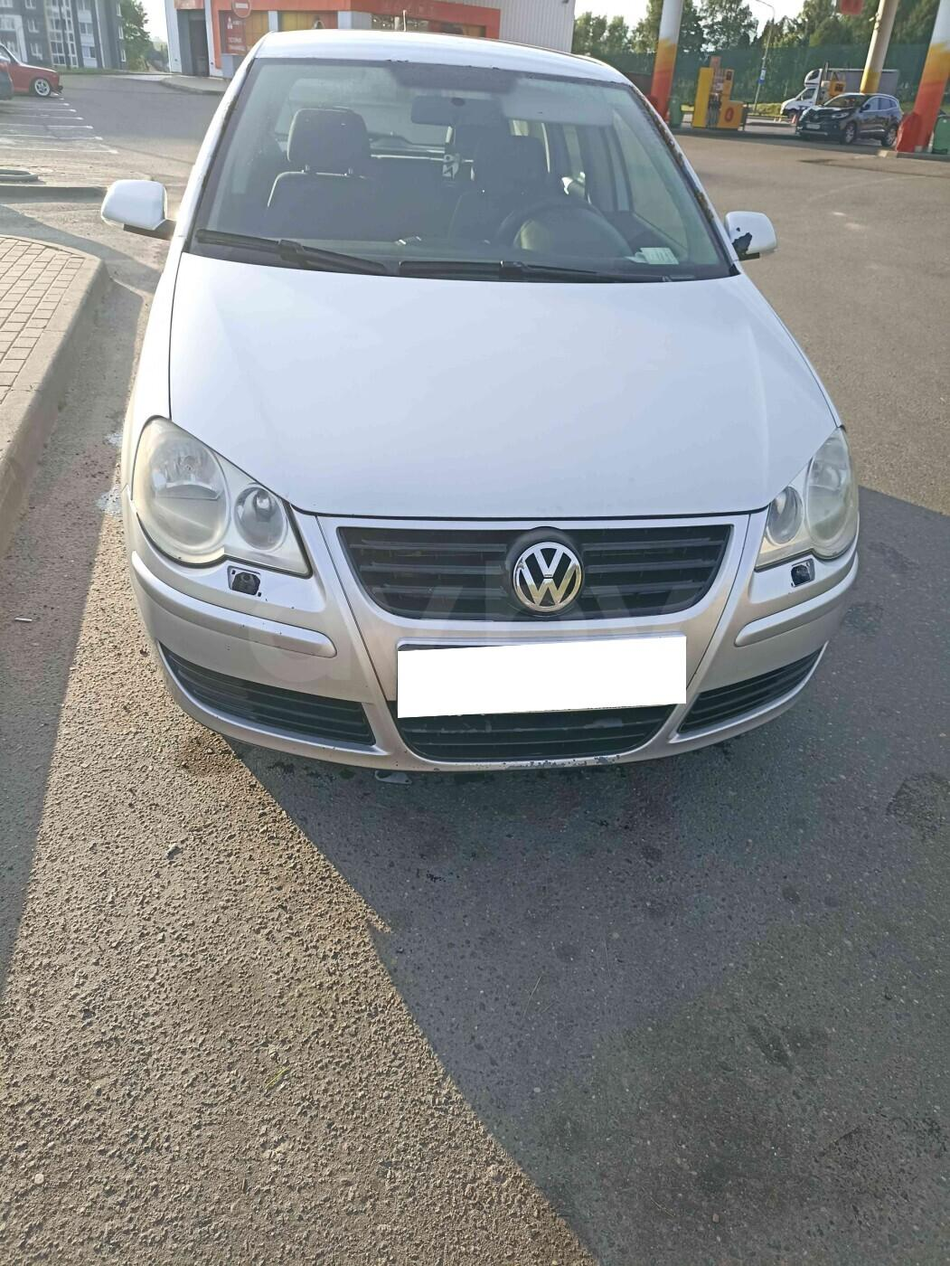Polo_2005-2009: (119, 24, 877, 794)
